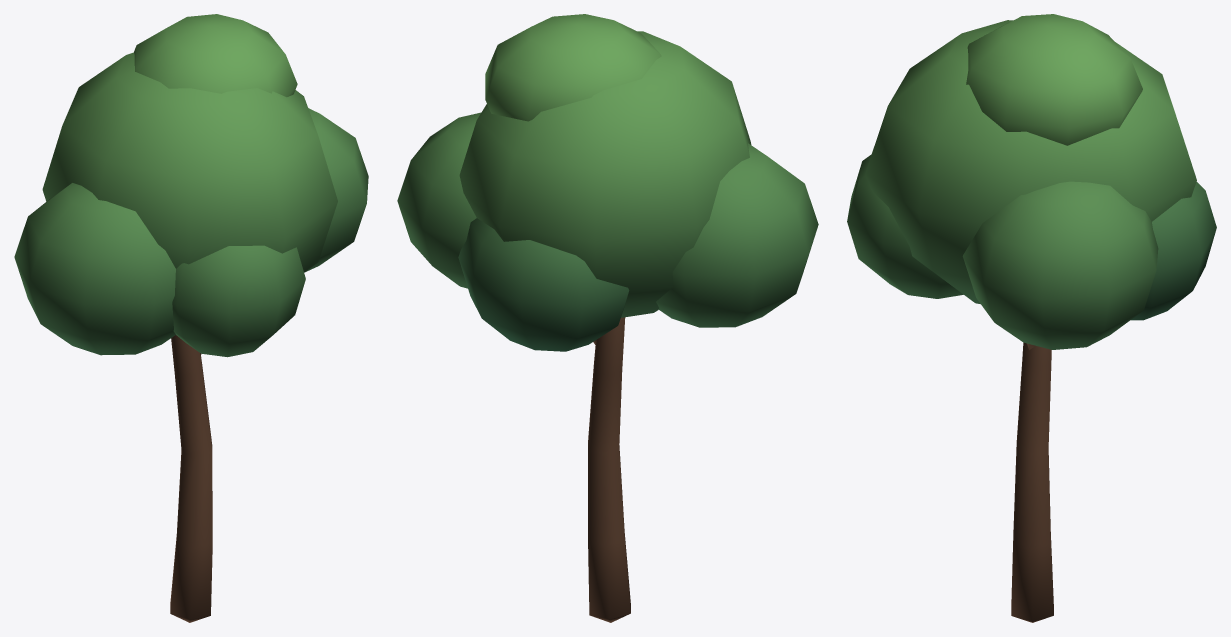
Rendered from tree_round.glb.
3 views of the same model, side by side, from view 1: azimuth 30°, elevation 25°; view 2: azimuth 150°, elevation 25°; view 3: azimuth 270°, elevation 25° (orthographic). The views are drawn at different scales.
Visible parts, largest first — view 1: canopy, tree_round; view 2: canopy, tree_round; view 3: canopy, tree_round.
Part boxes in pixels (x1=…): canopy: x1=14, y1=14, x2=368, y2=357; tree_round: x1=170, y1=335, x2=212, y2=622; canopy: x1=397, y1=14, x2=818, y2=351; tree_round: x1=588, y1=317, x2=630, y2=622; canopy: x1=847, y1=14, x2=1216, y2=349; tree_round: x1=1011, y1=342, x2=1053, y2=622.
Size of the model in its own units: 2.83 by 4.4 by 2.41.
